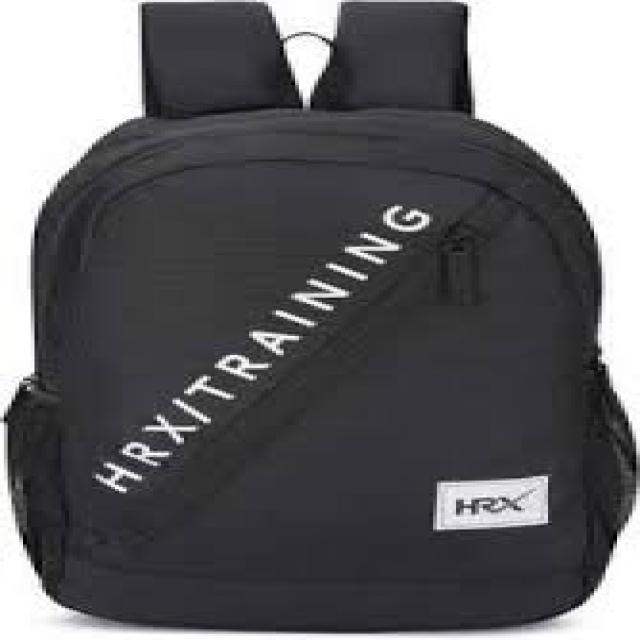backpack: (1, 1, 637, 632)
